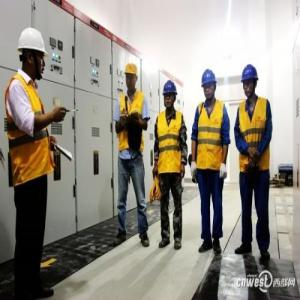blue: (242, 64, 260, 100), (201, 68, 218, 104), (161, 79, 179, 112)
white: (19, 25, 47, 84)
yellow: (125, 64, 140, 93)
